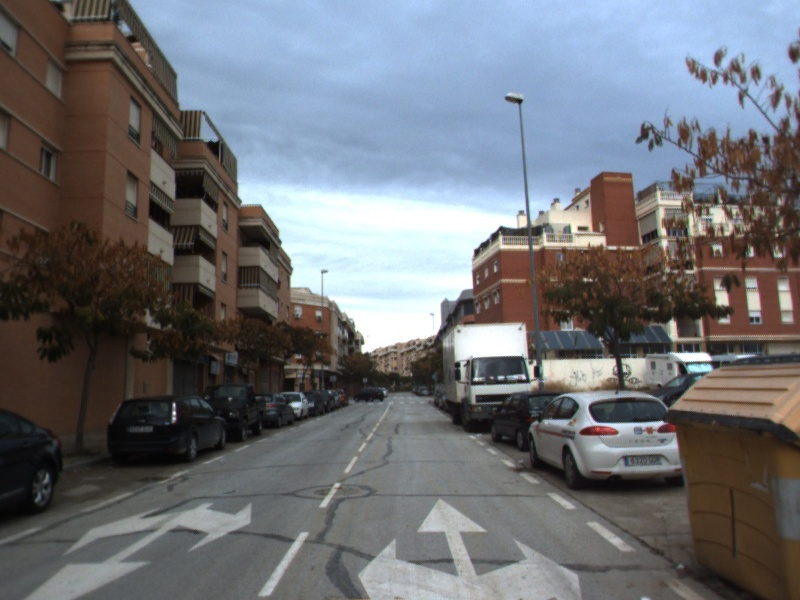STRAIGHT_LEFT_RIGHT: (355, 493, 584, 600)
